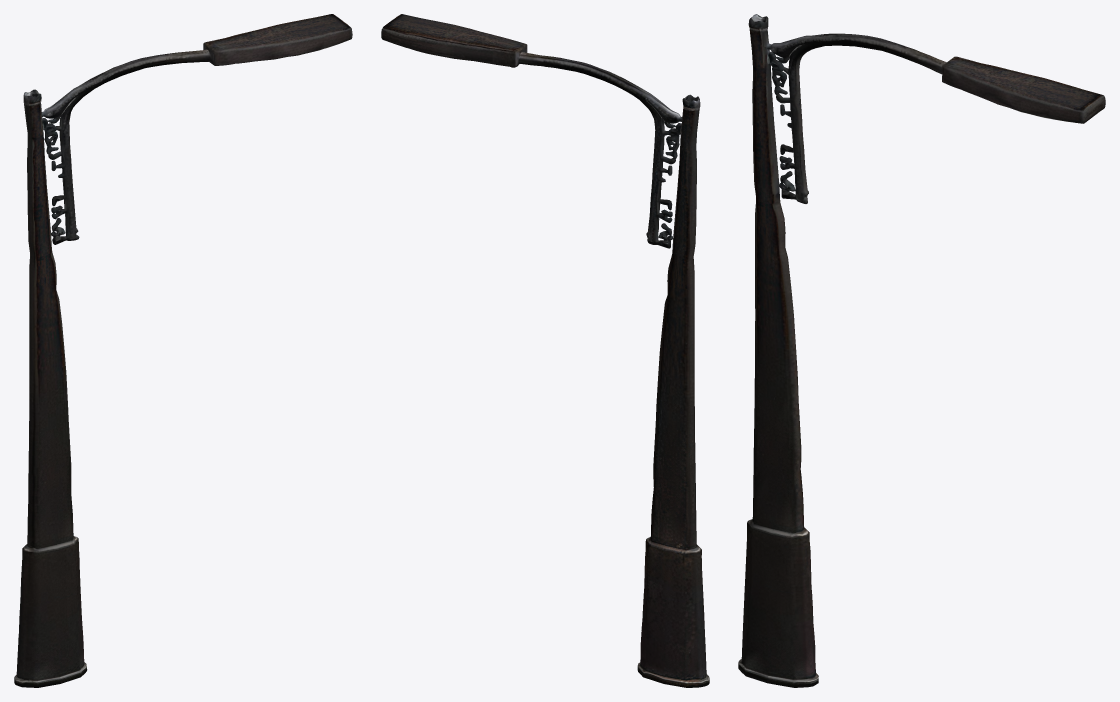
Rendered from street_light_opt.glb.
3 views of the same model, side by side, from view 1: azimuth 30°, elevation 25°; view 2: azimuth 150°, elevation 25°; view 3: azimuth 330°, elevation 25° (orthographic). The views are drawn at different scales.
Parts seen in each view (by area): view 1: tripo_node_e35e3fba-0485-4492-908a-23c0ce18397d; view 2: tripo_node_e35e3fba-0485-4492-908a-23c0ce18397d; view 3: tripo_node_e35e3fba-0485-4492-908a-23c0ce18397d.
Boxes of the visible parts, x1,y1,x2,y2 form: tripo_node_e35e3fba-0485-4492-908a-23c0ce18397d: (14, 14, 352, 687); tripo_node_e35e3fba-0485-4492-908a-23c0ce18397d: (381, 14, 709, 687); tripo_node_e35e3fba-0485-4492-908a-23c0ce18397d: (738, 14, 1105, 687).
Bounding box in the file's own units: 0.5692 × 0.9995 × 0.0755.
1 material, 1 textured.
